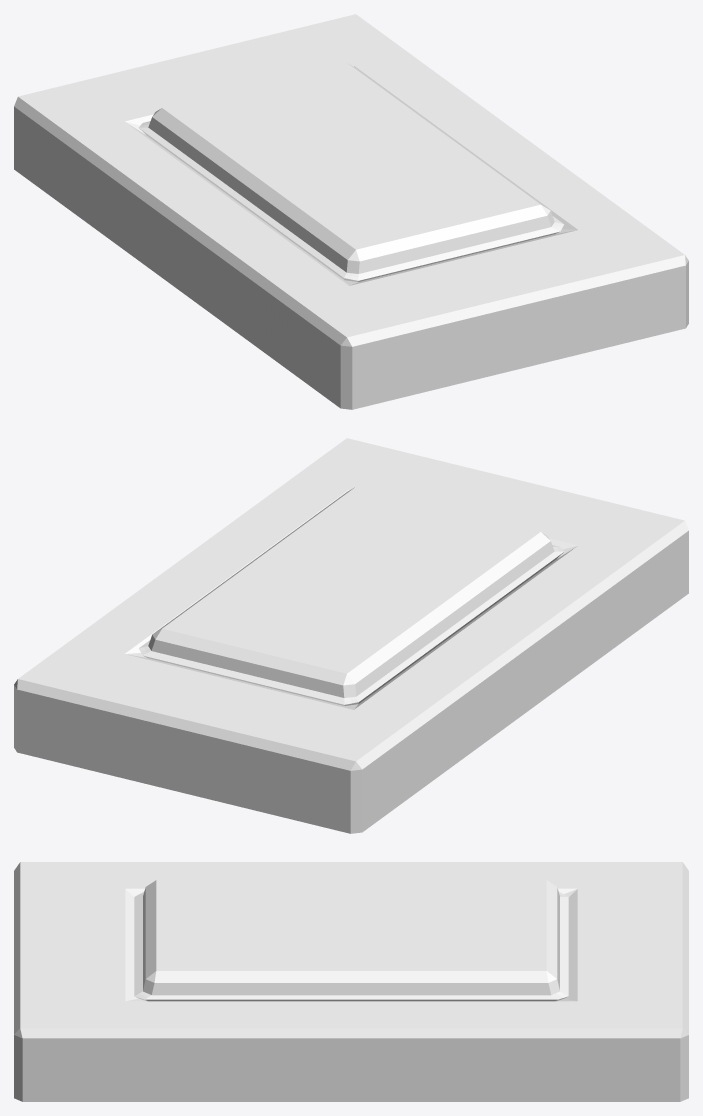
File: Switch.FBX
3 renders of one model, top to bottom at view 1: azimuth 30°, elevation 25°; view 2: azimuth 150°, elevation 25°; view 3: azimuth 270°, elevation 25°, orthographic.
Visible parts, largest first — view 1: Box001; view 2: Box001; view 3: Box001.
Boxes of the visible parts, box(x1,y1,x2,y2) form: Box001: box(14, 14, 688, 409); Box001: box(14, 438, 688, 833); Box001: box(14, 862, 688, 1101).
Bounding box in the file's own units: 7.2 × 12 × 1.78.
